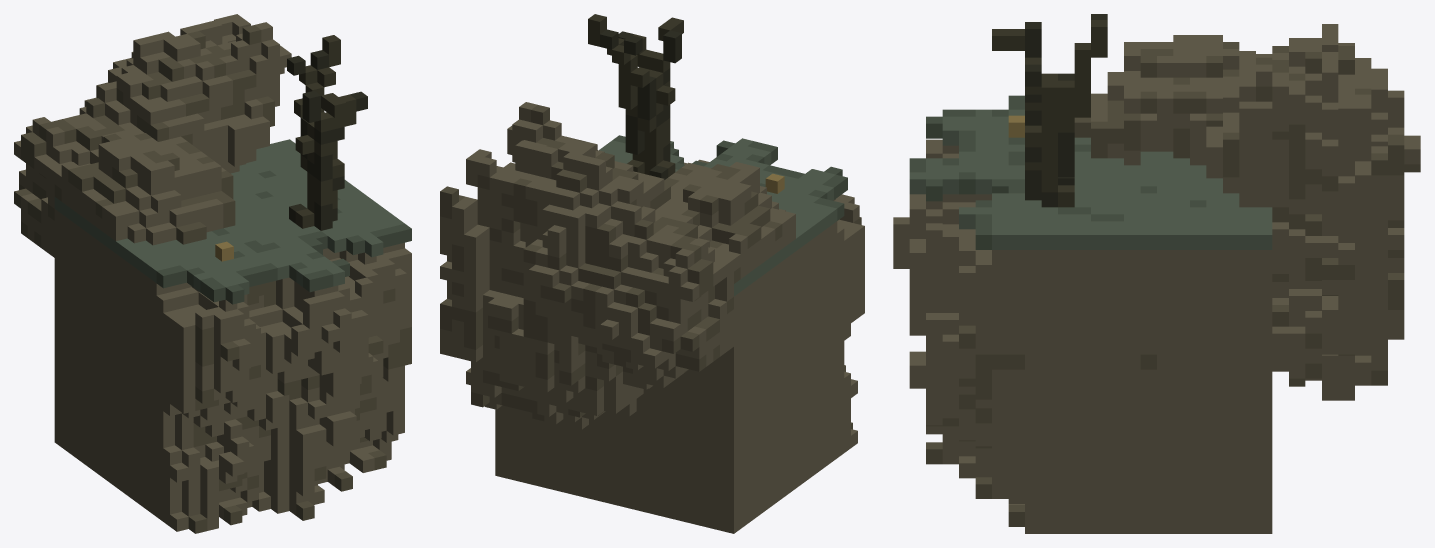
The model's file is mountain_0_lo.obj.
3 views of the same model, side by side, from view 1: azimuth 30°, elevation 25°; view 2: azimuth 150°, elevation 25°; view 3: azimuth 270°, elevation 25° (orthographic). The views are drawn at different scales.
Visible parts, largest first — view 1: mountain_0_lo; view 2: mountain_0_lo; view 3: mountain_0_lo.
Boxes of the visible parts, x1,y1,x2,y2 form: mountain_0_lo: (14,14,411,533); mountain_0_lo: (440,14,864,533); mountain_0_lo: (893,14,1420,533).
Size of the model in its own units: 4 by 6.6 by 6.4.
1 material, 1 textured.
